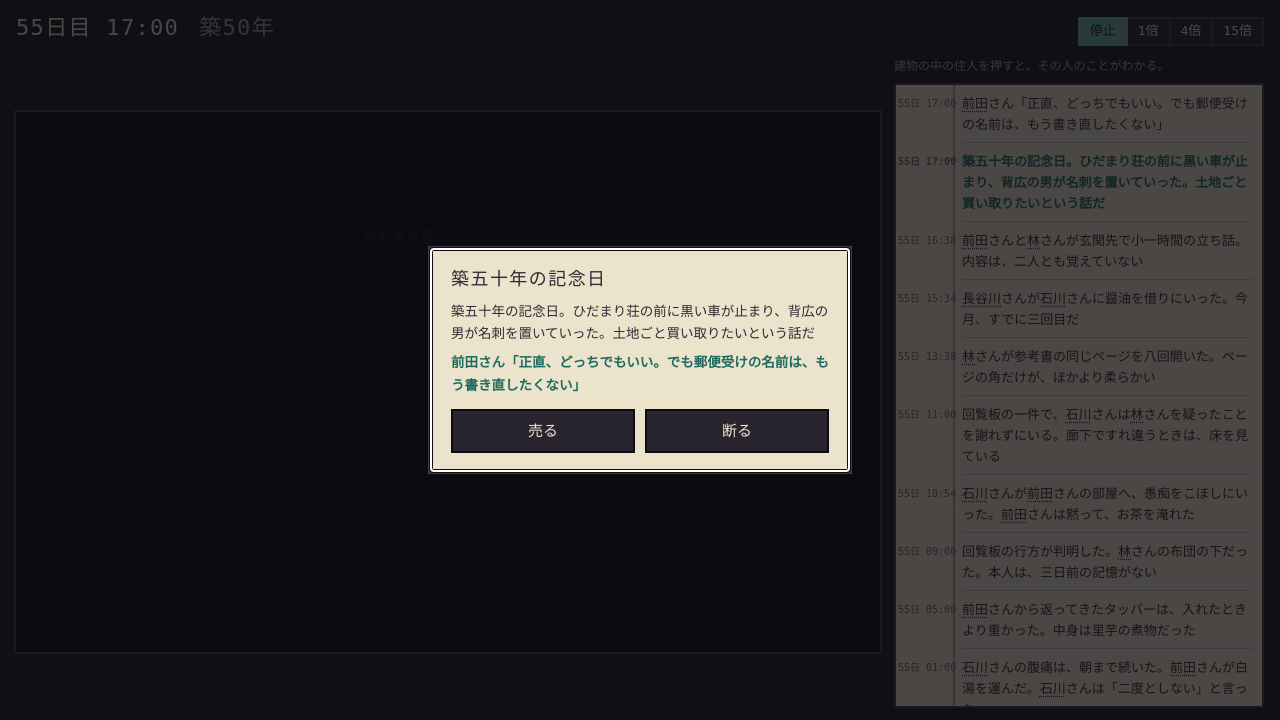
C8: 記念日のダイアログ以外に操作ボタン（選択肢）が無い › 追加: 「売る」を押すと結末だけが出て、ボタンは無い。開き直すと新しいゲームになる
What coordinates should you click on to do the following:
click the button "売る"
I would click on:
 (543, 431)
Its box is x1=451 y1=409 x2=635 y2=453.
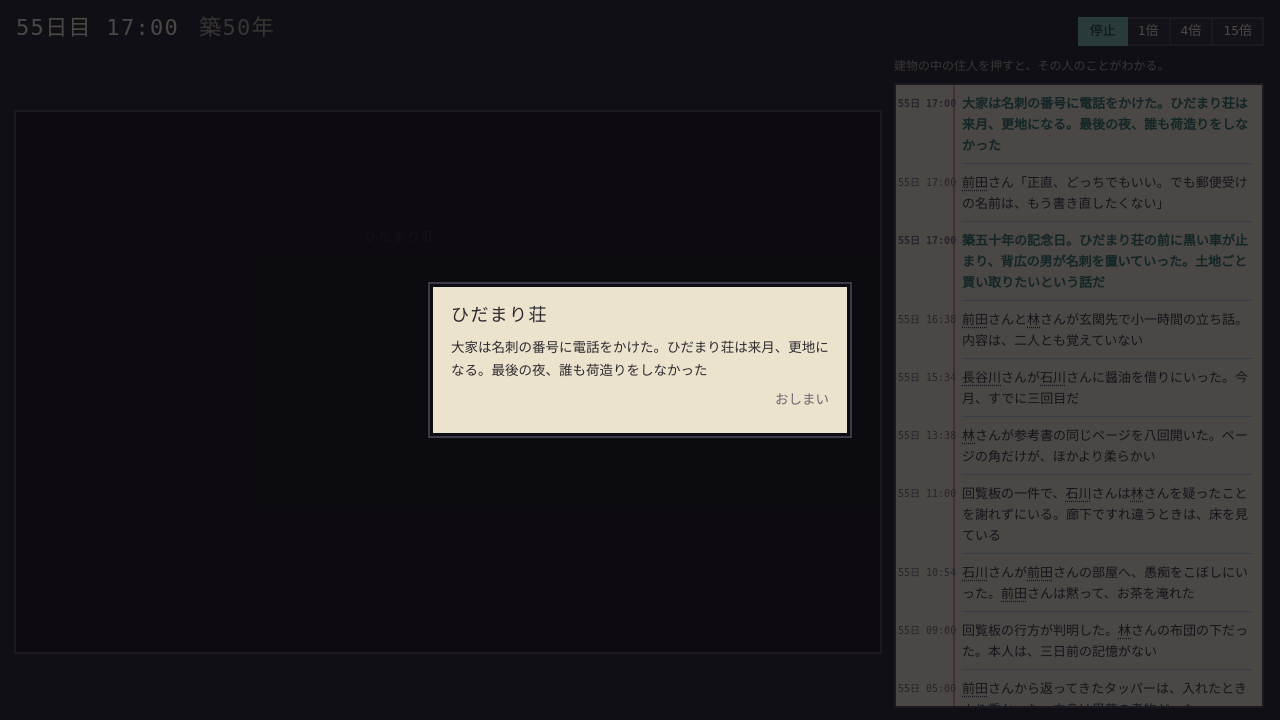
Check: the dialog is gone
Check: the message named "ひだまり荘の結末" shows "更地"
